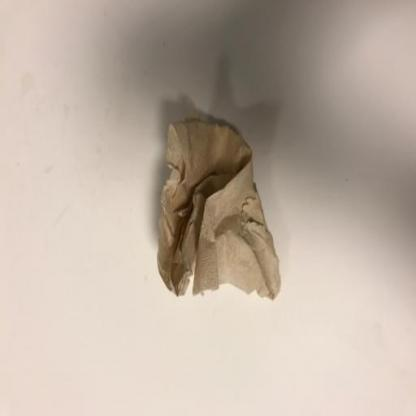trash: (157, 106, 281, 307)
